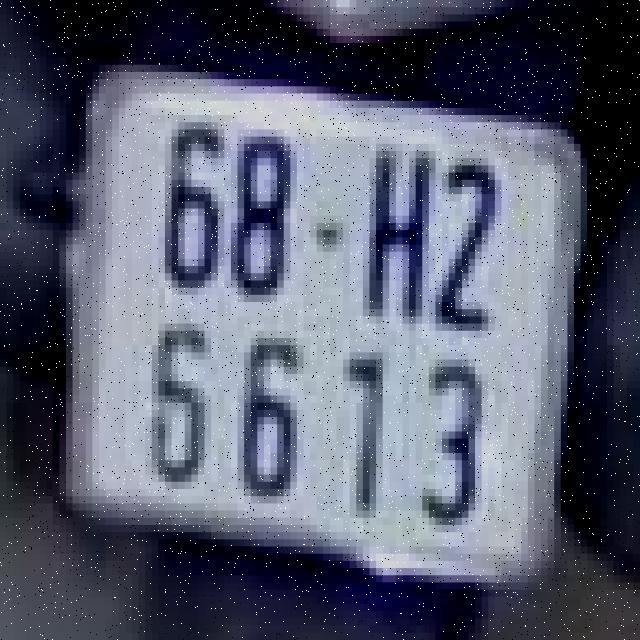1: (336, 334, 396, 528)
2: (436, 158, 508, 345)
3: (416, 356, 488, 528)
6: (234, 327, 307, 507), (152, 119, 224, 291), (145, 313, 211, 485)
8: (234, 133, 300, 313)
H: (363, 140, 435, 327)
